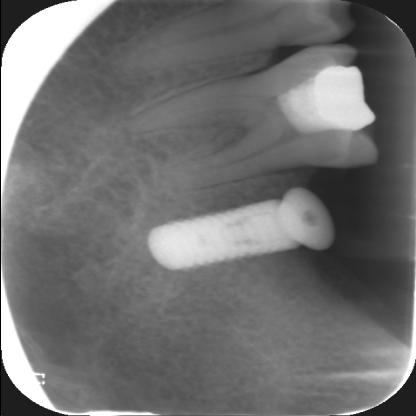ITI: (142, 198, 283, 277)
